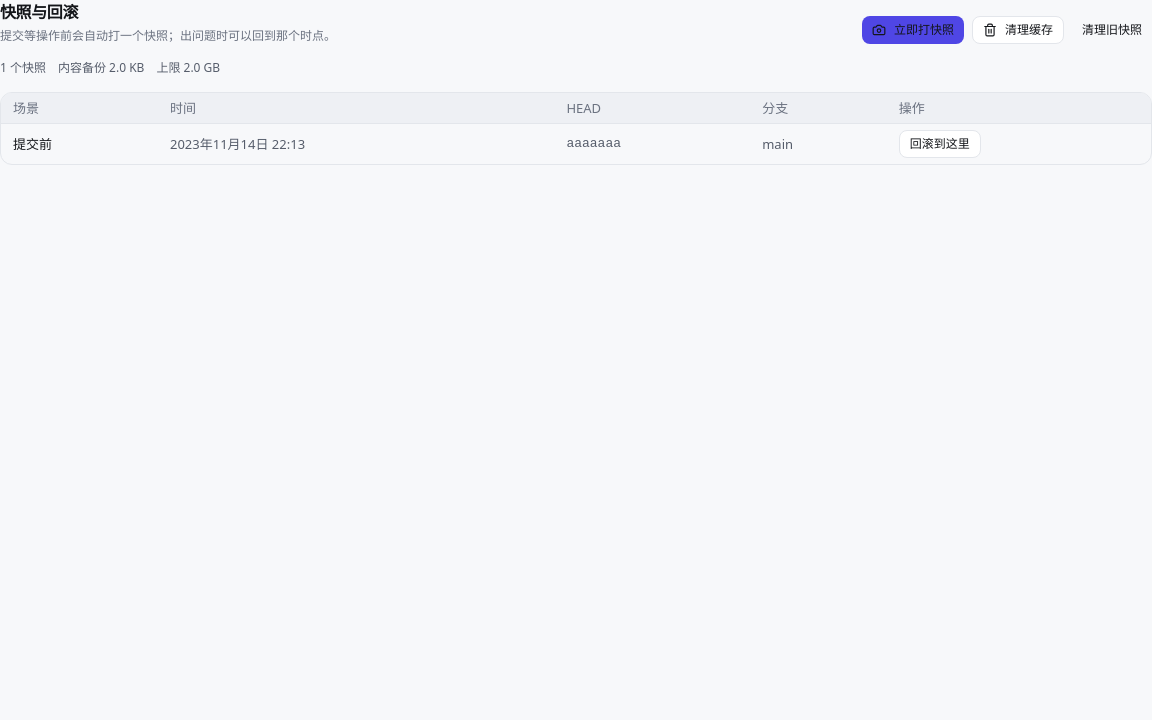
it: 快照页 › 紧急模式：展示阶段清单与可复制的恢复指引
The image size is (1152, 720).
Click the button "回滚到这里".
click(940, 144)  # box 899,130 -> 981,158
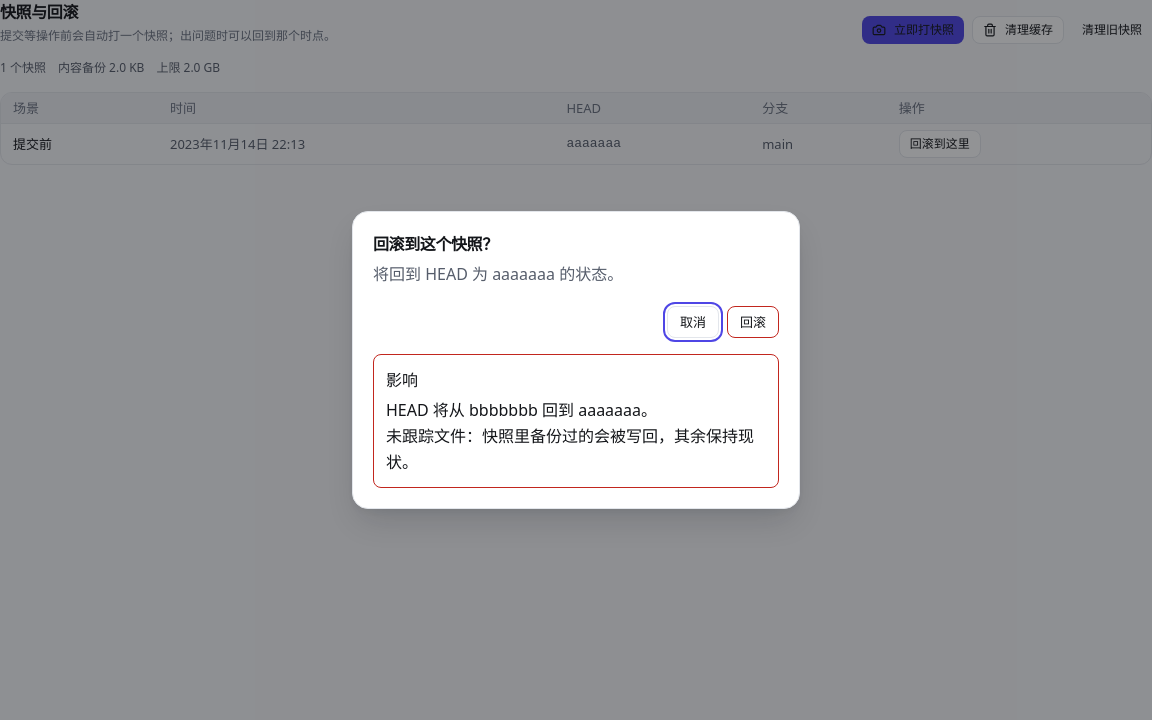
Click the button "回滚".
click(753, 322)  # box 727,306 -> 779,338
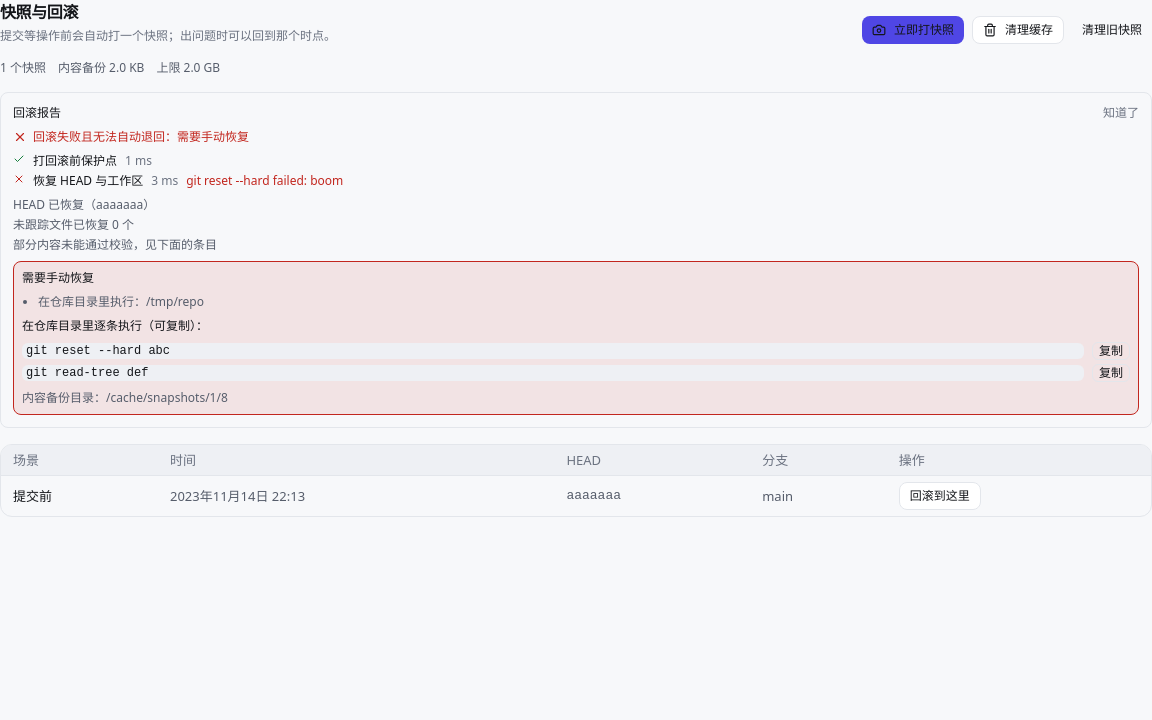
Result: the element with test id "snapshot-report" shows "需要手动恢复" at 22,269 -> 94,286
Result: the list with test id "report-stages" shows "打回滚前保护点" at 33,152 -> 117,169
Result: the list with test id "report-stages" shows "恢复 HEAD 与工作区" at 33,172 -> 143,189
